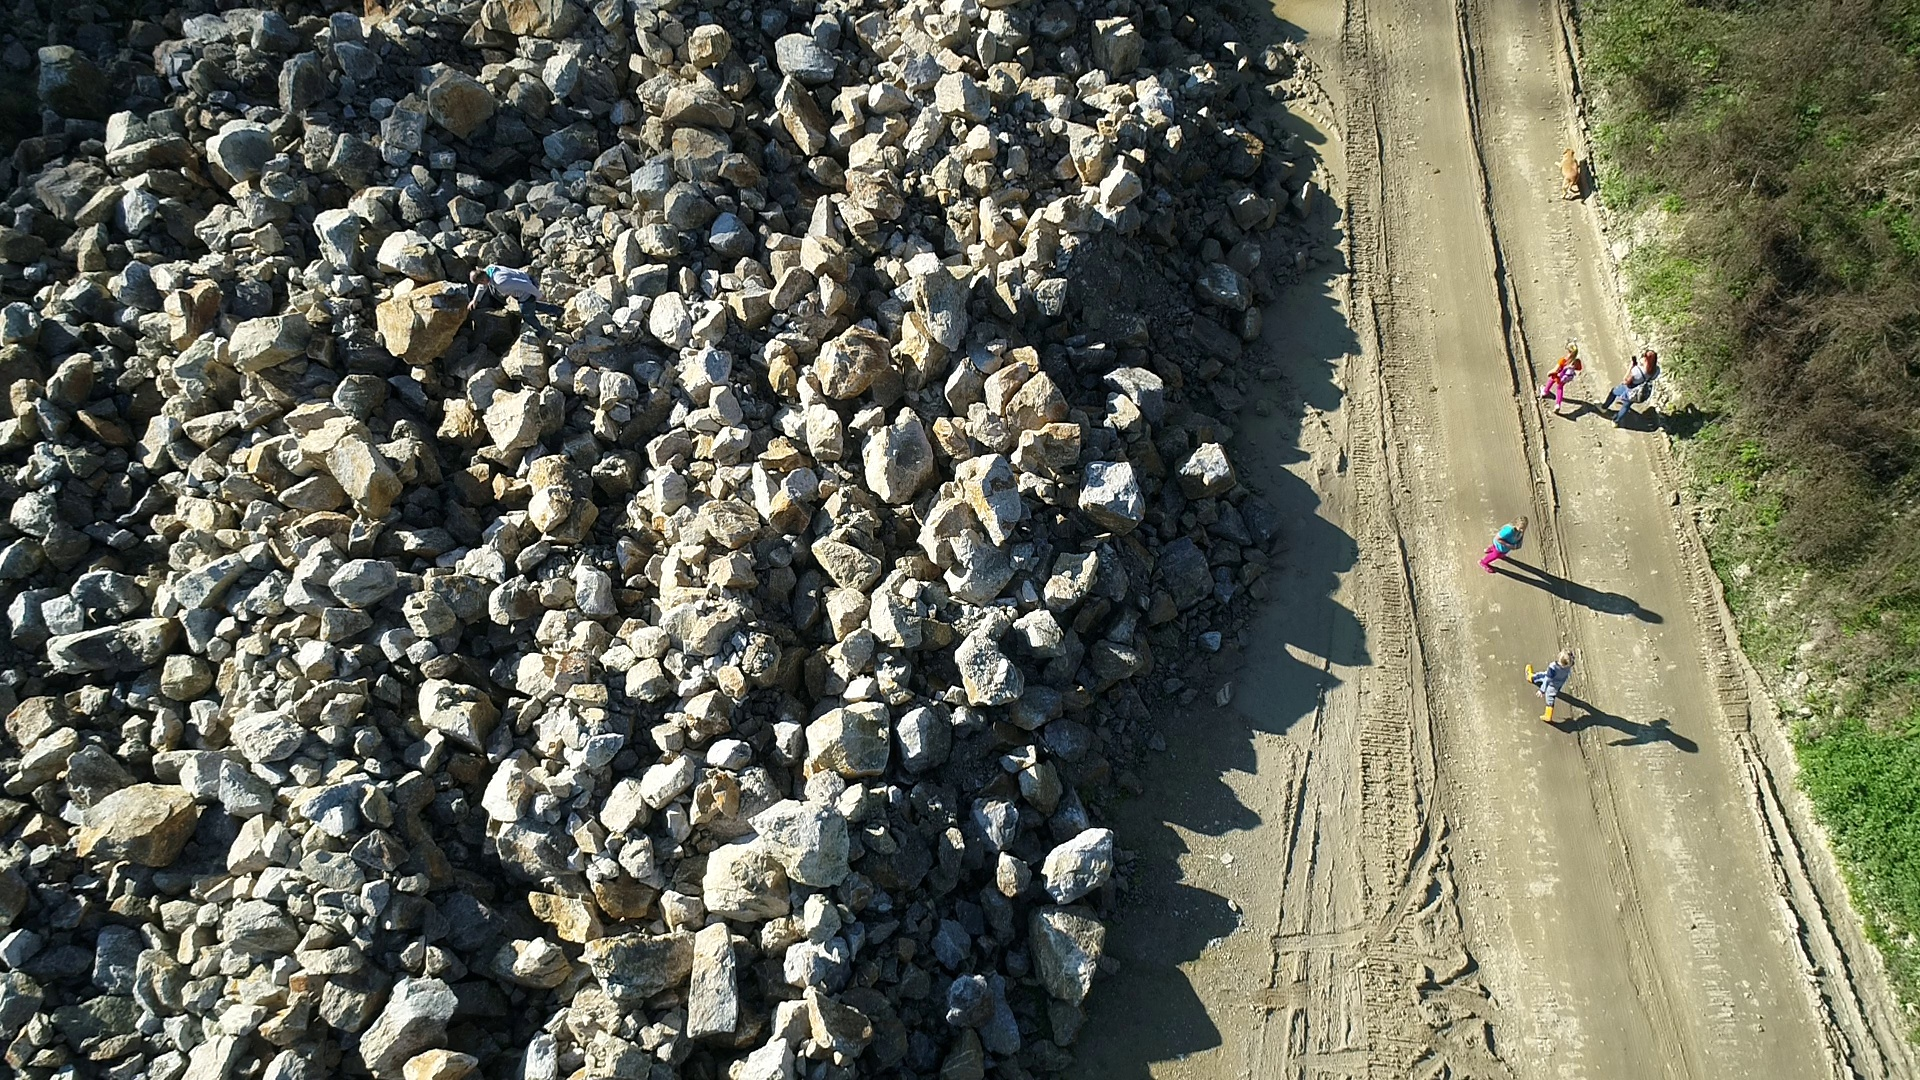person: (465, 261, 565, 341), (1595, 350, 1661, 430), (1524, 647, 1576, 724), (1477, 514, 1530, 576), (1539, 341, 1583, 416)
